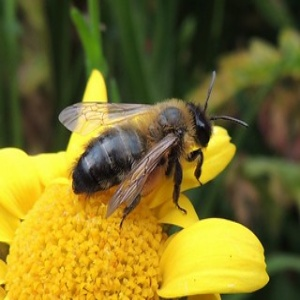bee: (57, 70, 251, 227)
